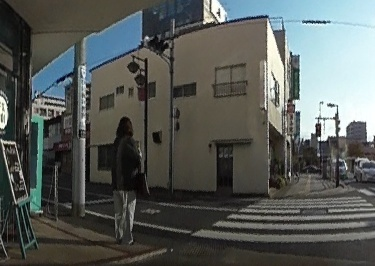person: (109, 113, 141, 242)
